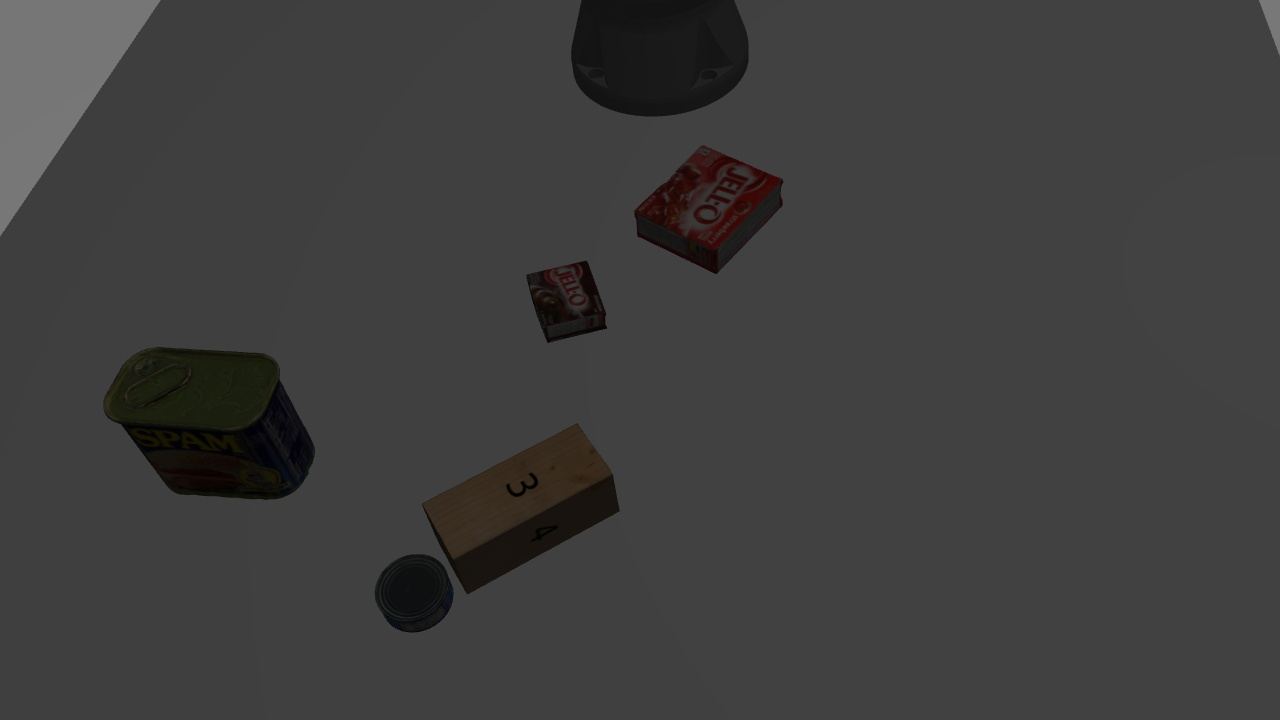gelatin_box: (629, 135, 787, 274)
potted_meat_can: (98, 340, 326, 501)
pudding_box: (522, 259, 609, 340)
tuna_fish_can: (363, 550, 459, 622)
wood_block: (418, 420, 622, 594)
